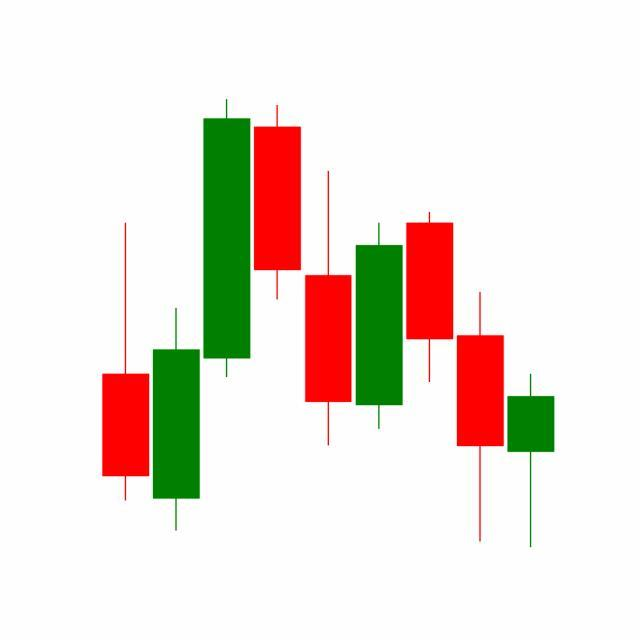Hikkake Pattern: (252, 101, 506, 547)
